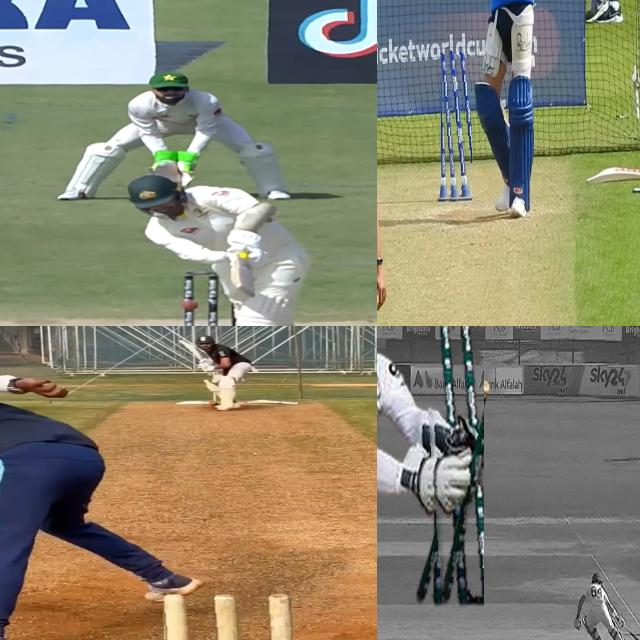Cricket ball: (180, 300, 200, 310), (209, 401, 219, 407)
Stumps: (416, 326, 484, 605), (161, 591, 293, 640), (437, 48, 472, 204)
